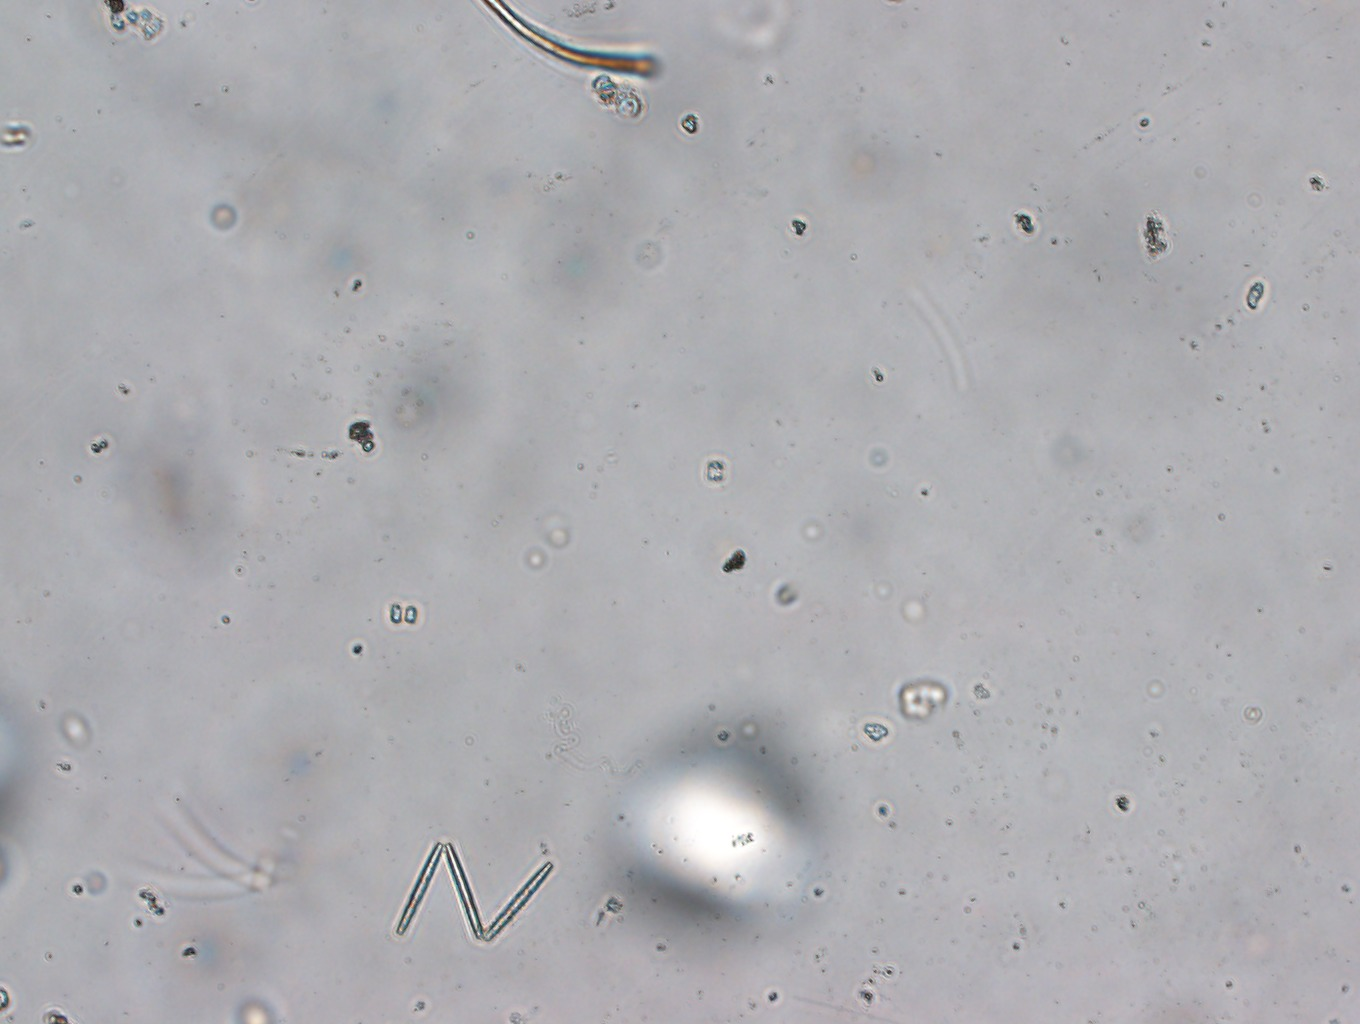thalassionema nitzschioides: (386, 838, 561, 964)
